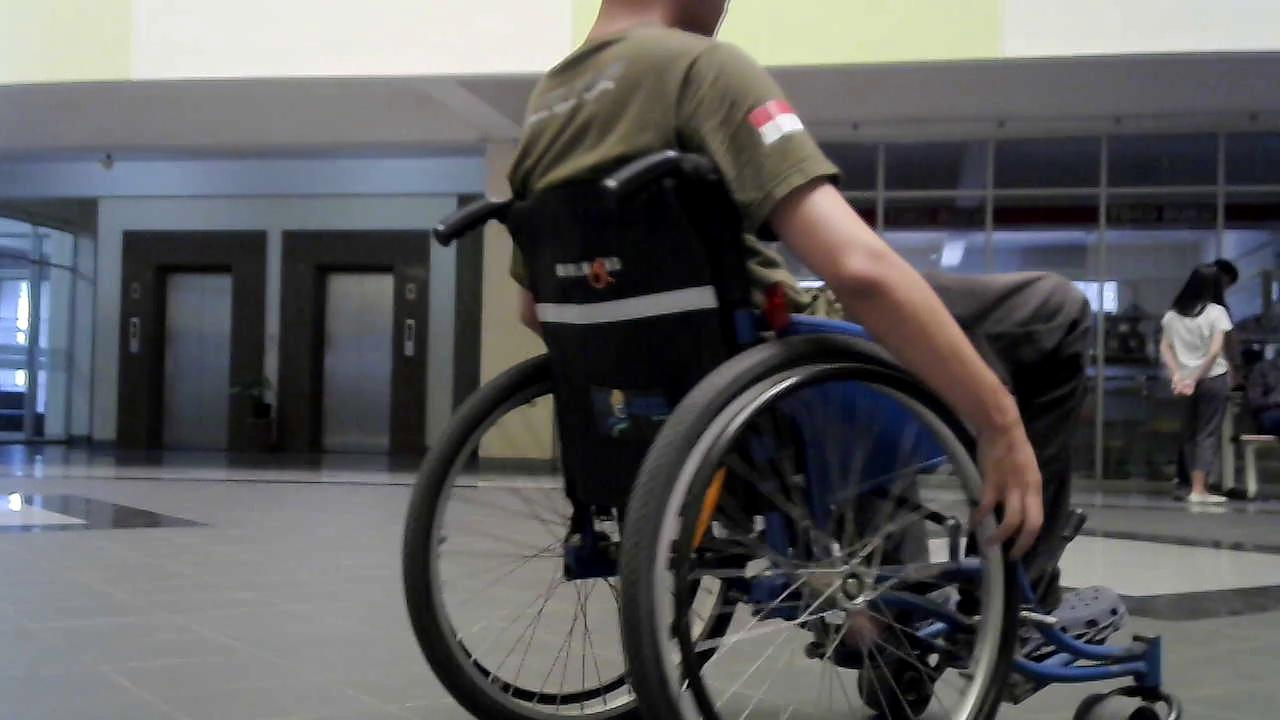person: (480, 3, 1088, 642), (1159, 261, 1241, 503)
wheelchair: (359, 140, 1184, 720)
